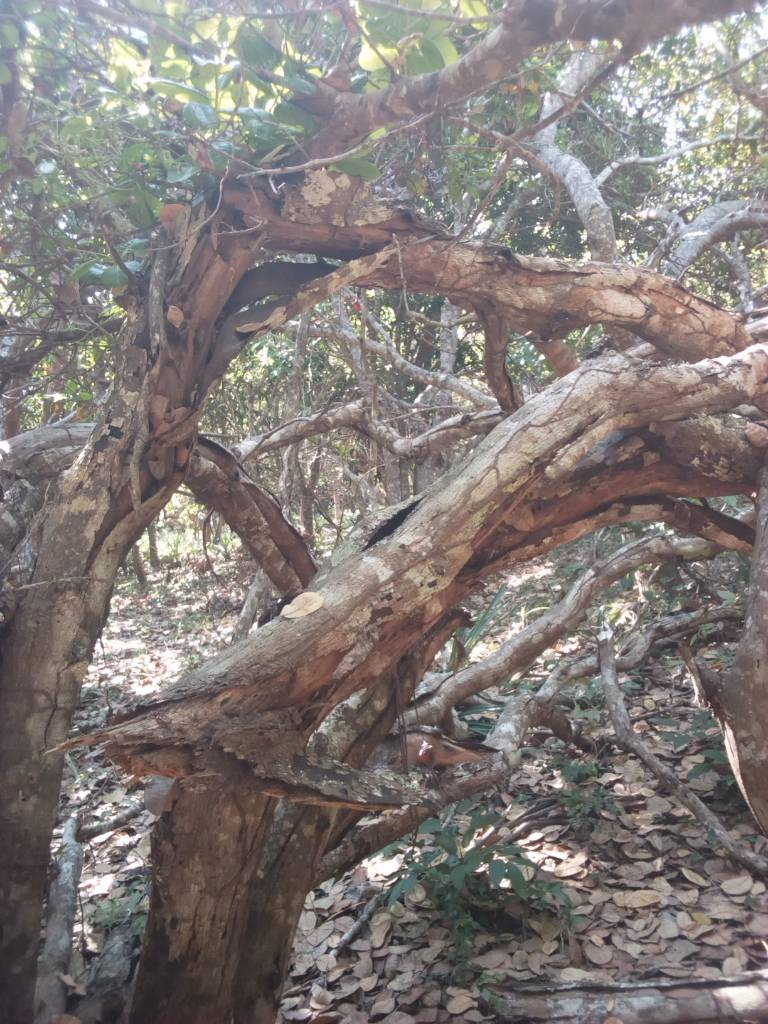Termites: (419, 360, 768, 591), (35, 210, 244, 594), (160, 635, 341, 1008)
